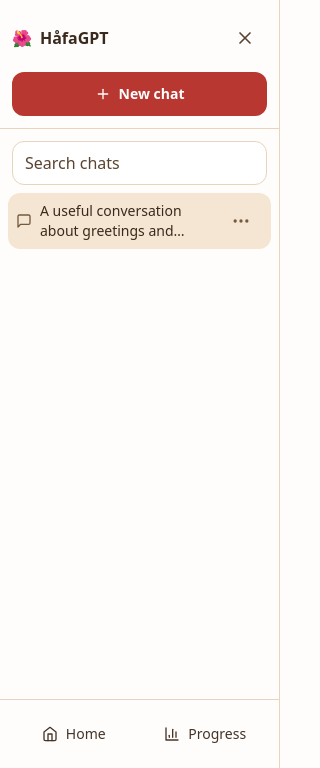
Test: ConversationSidebar › keeps a failed rename editable with an accurate error
Step 1. Click the button named "Actions for A useful conversation about greetings and family" → (241, 221), box [219, 199, 263, 243]
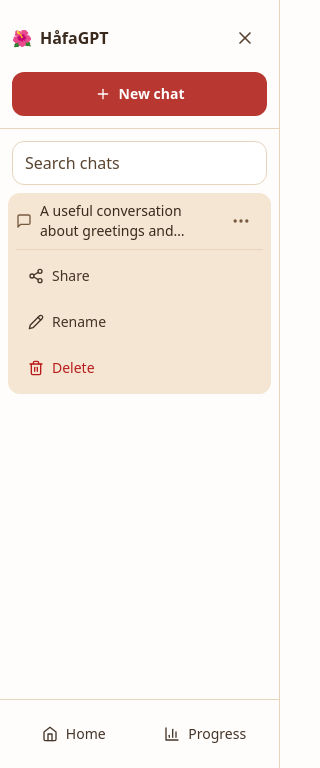
Step 2. Click the button "Rename" → (140, 322), box [16, 300, 263, 344]
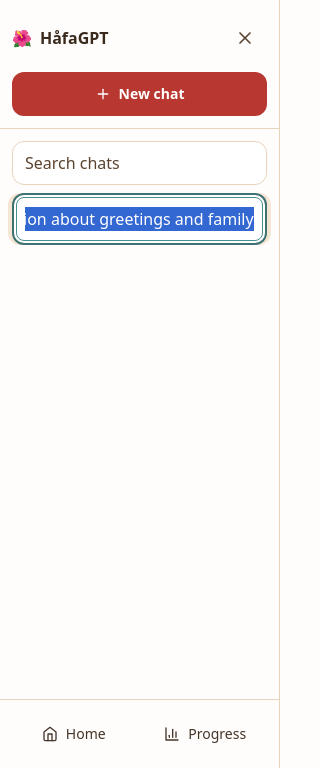
Step 3. Replace the text in the field named "Rename A useful conversation about greetings and family" with "Keep my title" → (140, 219), box [16, 197, 263, 241]
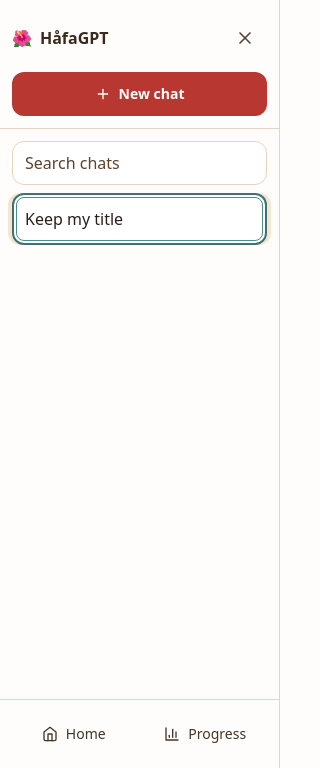
Step 4. Press Enter in the field named "Rename A useful conversation about greetings and family", box [16, 197, 263, 241]
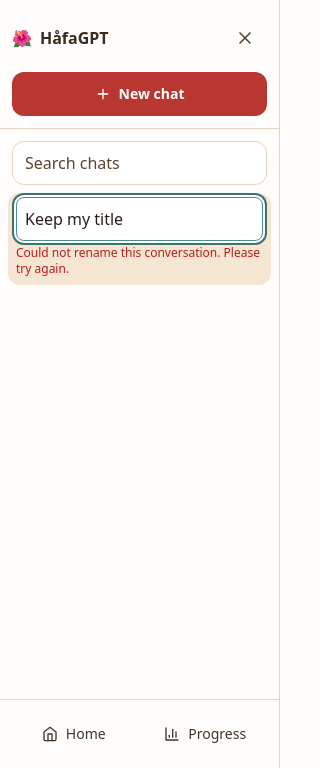
Expected: the message shows "Could not rename", [16, 244, 260, 277]
